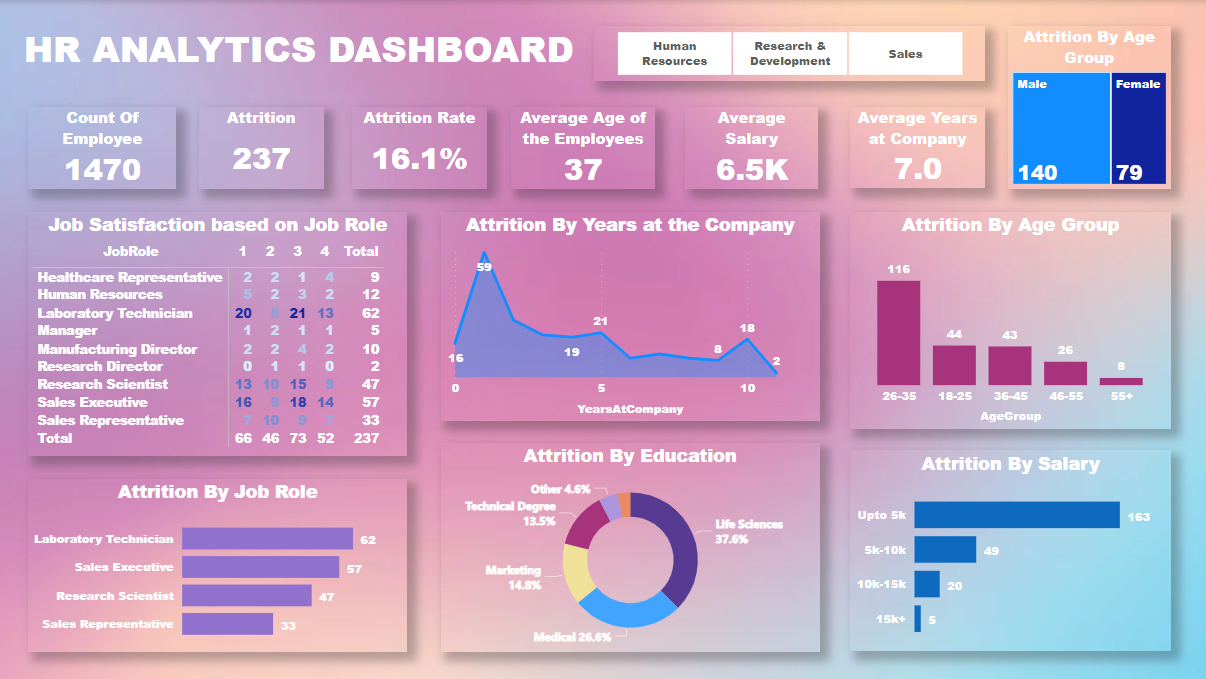

The page's visual inventory and layout, read from the dashboard file:
{"tool":"powerbi","page":{"name":"Page 1","canvas":[1280,720],"ordinal":0},"visuals":[{"type":"card","title":"Attrition","fields":{"Values":["Sum(HR_Analytics.AttritionCount)"]},"box":[213,112.8,131.9,87.4],"z":0},{"type":"card","title":"Count Of Employee","fields":{"Values":["CountNonNull(HR_Analytics.EmpID)"]},"box":[31.8,112.8,157.4,87.4],"z":1000},{"type":"card","title":"Attrition Rate","fields":{"Values":["HR_Analytics.AttritionRate"]},"box":[375.1,112.8,143,87.4],"z":2000},{"type":"card","title":"Average Age of the Employees","fields":{"Values":["Avg(HR_Analytics.Age)"]},"box":[543.6,112.8,152.6,87.4],"z":3000},{"type":"card","title":"Average Years at Company","fields":{"Values":["Avg(HR_Analytics.YearsAtCompany)"]},"box":[902.8,112.8,143,87.4],"z":4000},{"type":"card","title":"Average Salary","fields":{"Values":["Avg(HR_Analytics.MonthlyIncome)"]},"box":[727.9,112.8,141.5,87.4],"z":5000},{"type":"donutChart","title":"Attrition By Education ","fields":{"Category":["HR_Analytics.EducationField"],"Y":["Sum(HR_Analytics.AttritionCount)"]},"box":[468.9,468.9,433.9,220.9],"z":6000},{"type":"columnChart","title":"Attrition By Age Group","fields":{"Category":["HR_Analytics.AgeGroup"],"Y":["Sum(HR_Analytics.AttritionCount)"]},"box":[931.4,224.1,311.5,228.9],"z":7000},{"type":"pivotTable","title":"Job Satisfaction based on Job Role","fields":{"Rows":["HR_Analytics.JobRole"],"Columns":["HR_Analytics.JobSatisfaction"],"Values":["Sum(HR_Analytics.AttritionCount)"]},"box":[31.8,224.1,402.1,259.1],"z":8000},{"type":"barChart","title":"Attrition By Salary","fields":{"Category":["HR_Analytics.SalarySlab"],"Y":["Sum(HR_Analytics.AttritionCount)"]},"box":[931.4,483.2,311.5,206.6],"z":9000},{"type":"barChart","title":"Attrition By Job Role","fields":{"Category":["HR_Analytics.JobRole"],"Y":["Sum(HR_Analytics.AttritionCount)"]},"box":[31.8,507,402.1,182.8],"z":10000},{"type":"areaChart","title":"Attrition By Years at the Company","fields":{"Category":["HR_Analytics.YearsAtCompany"],"Y":["Sum(HR_Analytics.AttritionCount)"]},"box":[468.9,224.1,433.9,220.9],"z":11000},{"type":"treemap","title":"Attrition By Age Group","fields":{"Group":["HR_Analytics.Gender"],"Values":["Sum(HR_Analytics.AttritionCount)"]},"box":[1069.7,27,173.2,173.2],"z":12000},{"type":"slicer","title":"Attrition By Age Group","fields":{"Values":["HR_Analytics.Department"]},"box":[631,27,414.8,58.8],"z":13000},{"type":"textbox","box":[22.3,19.1,608.7,73.1],"z":14000}]}

Visuals, with their boxes in screenshot pixels (x1, y1, x2, y2), scaled from the page's 1280x720 canvas onto the 1206x679 screenshot:
"Attrition" card: crop(201, 106, 325, 189)
"Count Of Employee" card: crop(30, 106, 178, 189)
"Attrition Rate" card: crop(353, 106, 488, 189)
"Average Age of the Employees" card: crop(512, 106, 656, 189)
"Average Years at Company" card: crop(851, 106, 985, 189)
"Average Salary" card: crop(686, 106, 819, 189)
"Attrition By Education " donutChart: crop(442, 442, 851, 651)
"Attrition By Age Group" columnChart: crop(878, 211, 1171, 427)
"Job Satisfaction based on Job Role" pivotTable: crop(30, 211, 409, 456)
"Attrition By Salary" barChart: crop(878, 456, 1171, 651)
"Attrition By Job Role" barChart: crop(30, 478, 409, 651)
"Attrition By Years at the Company" areaChart: crop(442, 211, 851, 420)
"Attrition By Age Group" treemap: crop(1008, 25, 1171, 189)
"Attrition By Age Group" slicer: crop(595, 25, 985, 81)
textbox: crop(21, 18, 595, 87)
